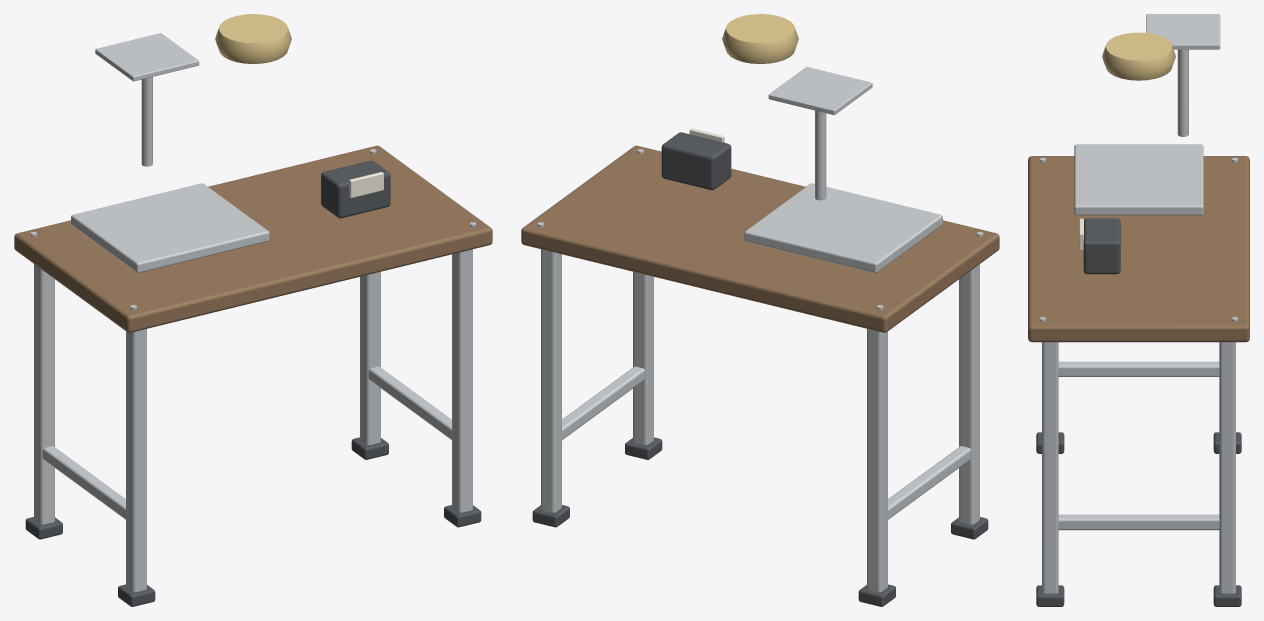
File: chocolate-making-and-confectionery-ingredient-weighing-b7ebbef7__39171.glb
The picture shows the model from 3 angles, left to right: view 1: azimuth 30°, elevation 25°; view 2: azimuth 150°, elevation 25°; view 3: azimuth 270°, elevation 25°; orthographic projection. The views are drawn at different scales.
Parts seen in each view (by area): view 1: ingredient-weighing-station; view 2: ingredient-weighing-station; view 3: ingredient-weighing-station.
Part boxes in pixels (x1,y1,x2,y2): ingredient-weighing-station: [14, 14, 492, 606]; ingredient-weighing-station: [521, 14, 999, 606]; ingredient-weighing-station: [1028, 14, 1249, 606].
Bounding box in the file's own units: 1.1 × 1.43 × 0.6.
